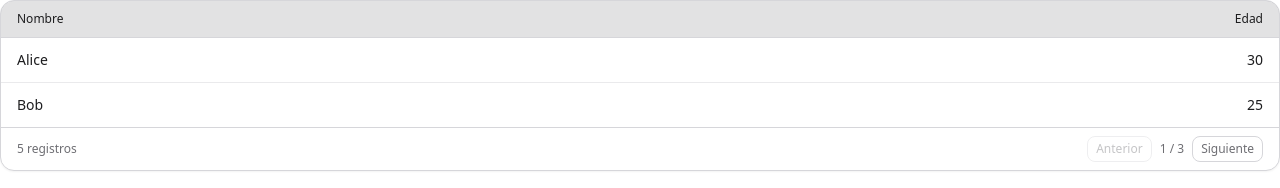
Test: DataTable › navigates to next page
Check: the text "Alice" is shown, box [1,38,724,82]
Check: the text "Bob" is shown, box [1,82,724,127]
What coordinates should you click on to do the following:
click the button "Siguiente"
I would click on:
 (1228, 149)
Its box is [1192,136,1263,162].
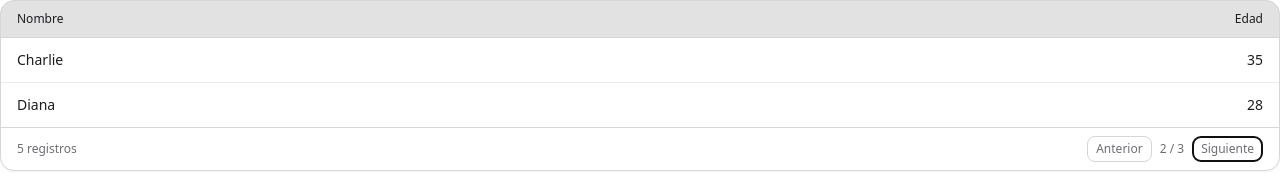
Check: the text "2 / 3" is shown, box [1160,141,1184,157]
Check: the text "Charlie" is shown, box [1,38,724,82]
Check: the text "Alice" is gone
